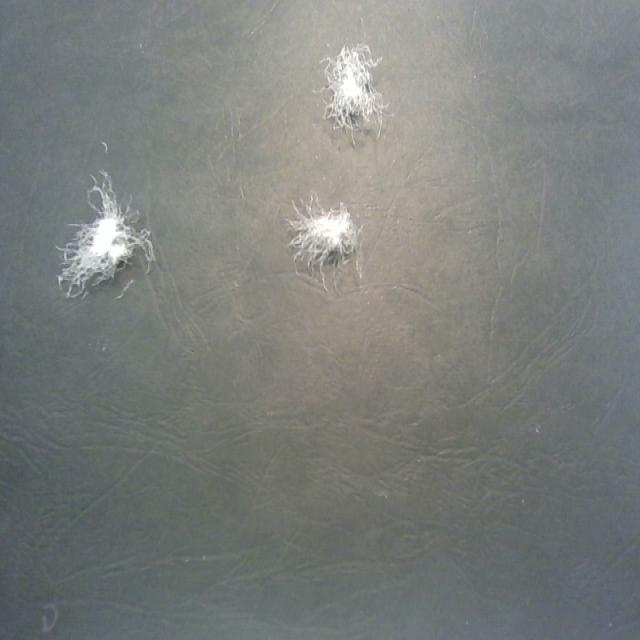feather: (54, 169, 152, 300), (316, 40, 387, 136), (285, 198, 364, 282)
